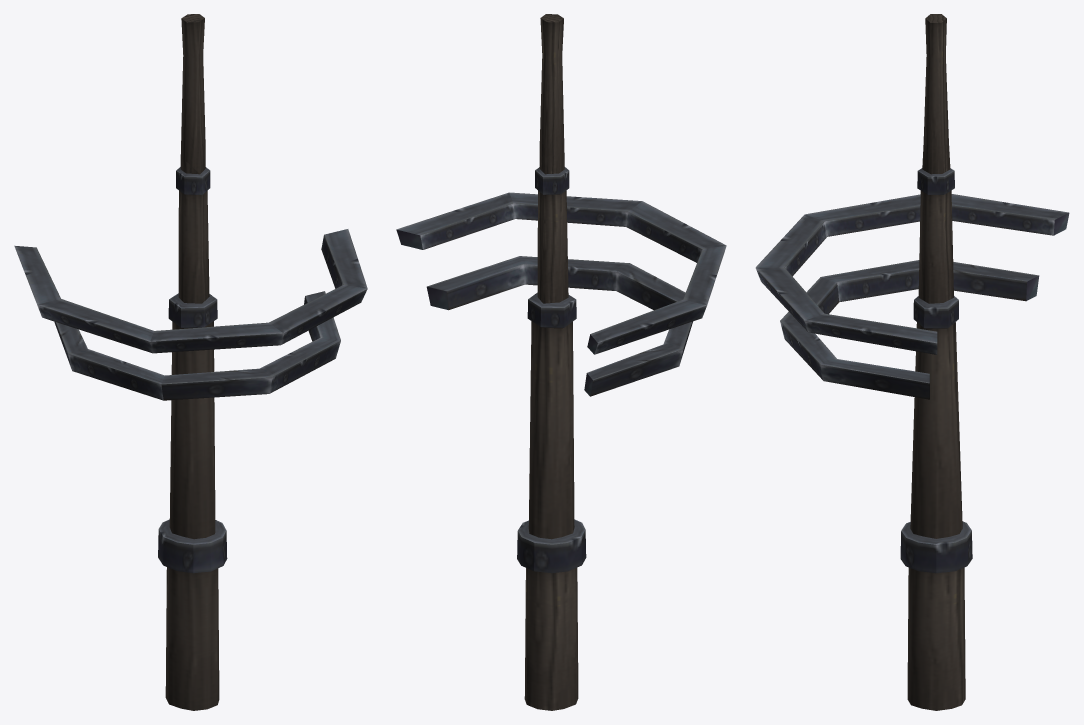
File: yw_bingyuan_liaowangta_001.FBX
3 renders of one model, left to right at view 1: azimuth 30°, elevation 25°; view 2: azimuth 150°, elevation 25°; view 3: azimuth 270°, elevation 25°, orthographic.
Parts seen in each view (by area): view 1: yw_bingyuan_liaowangta_001; view 2: yw_bingyuan_liaowangta_001; view 3: yw_bingyuan_liaowangta_001.
Boxes of the visible parts, left/top/right/bottom form: yw_bingyuan_liaowangta_001: left=14, top=14, right=367, bottom=710; yw_bingyuan_liaowangta_001: left=396, top=14, right=726, bottom=710; yw_bingyuan_liaowangta_001: left=755, top=14, right=1069, bottom=710.
Bounding box in the file's own units: 8.75 × 7.64 × 18.28.
